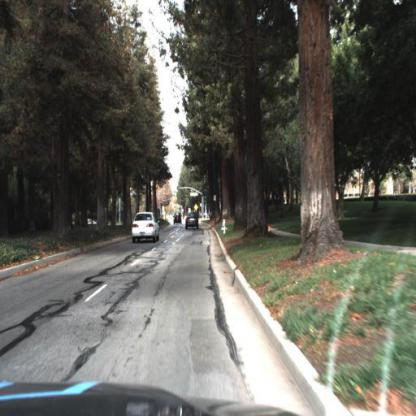car: (131, 210, 160, 246), (186, 211, 203, 231), (173, 212, 184, 227)
